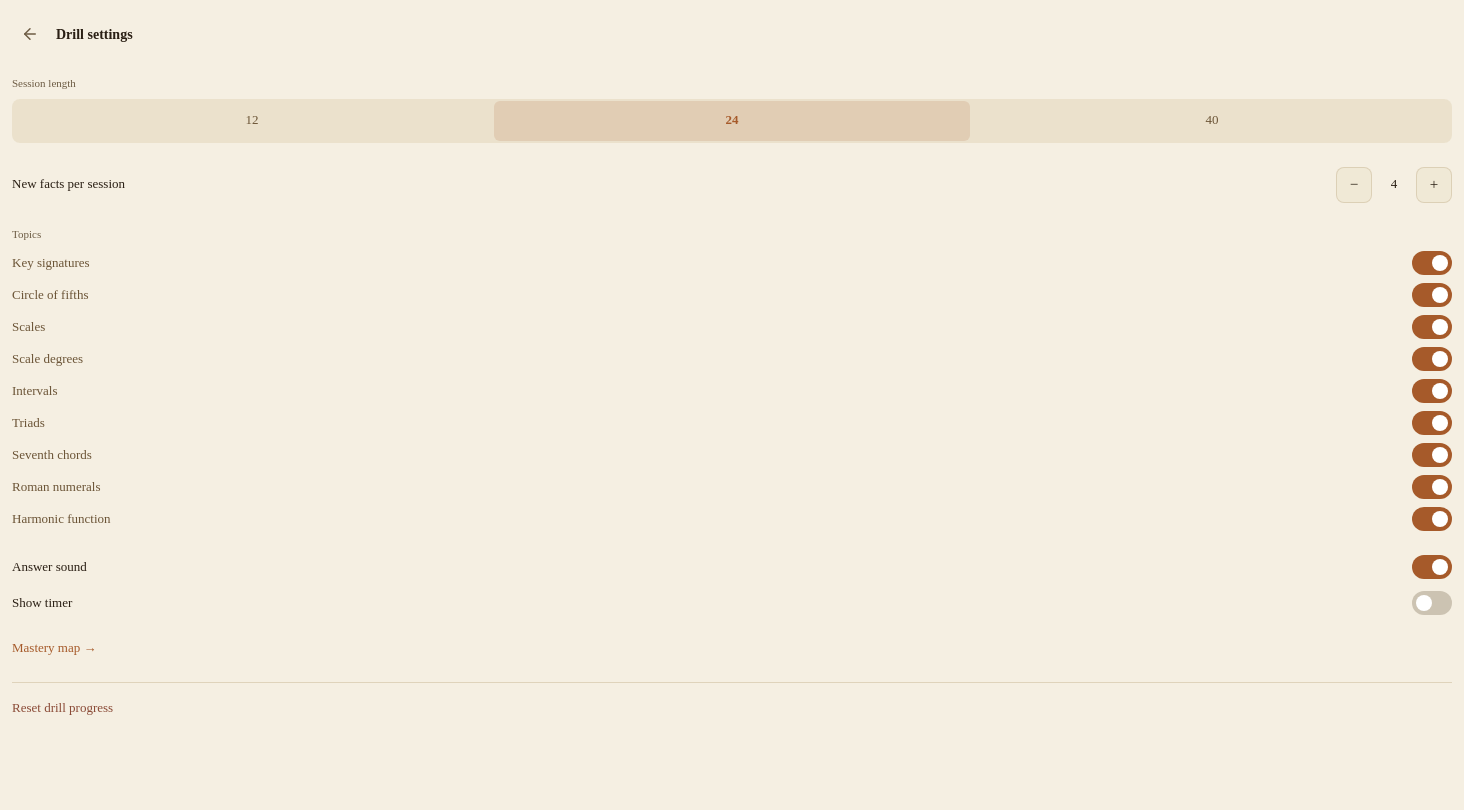
Test case: DrillSettings › Cancel dismisses the confirm block and restores the label
This screenshot has width=1464, height=810.
Click the button "Reset drill progress". click: point(63, 708)
box: x1=12 y1=699 x2=113 y2=718
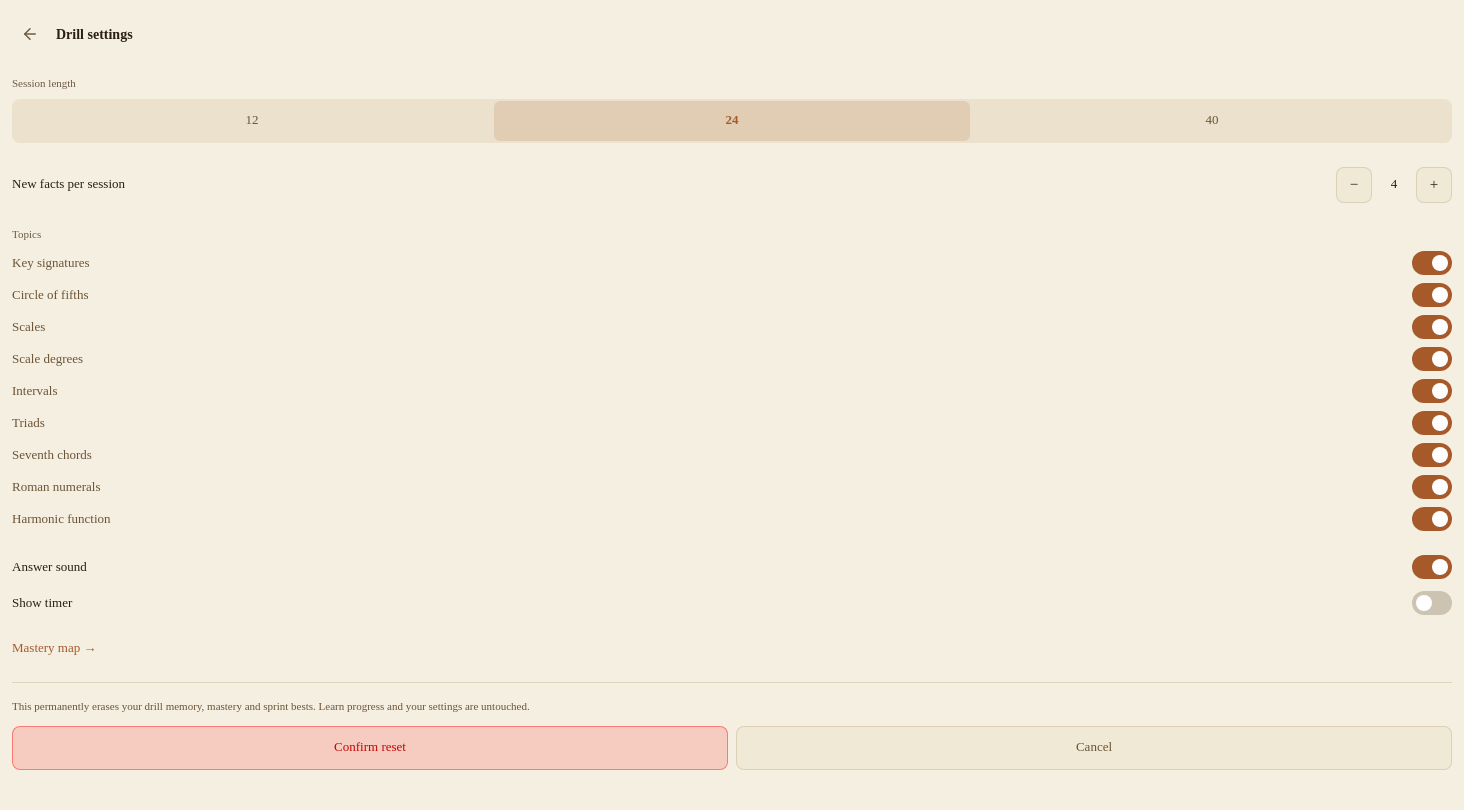
Click the button "Cancel". click: point(1094, 748)
box: x1=736 y1=726 x2=1452 y2=770
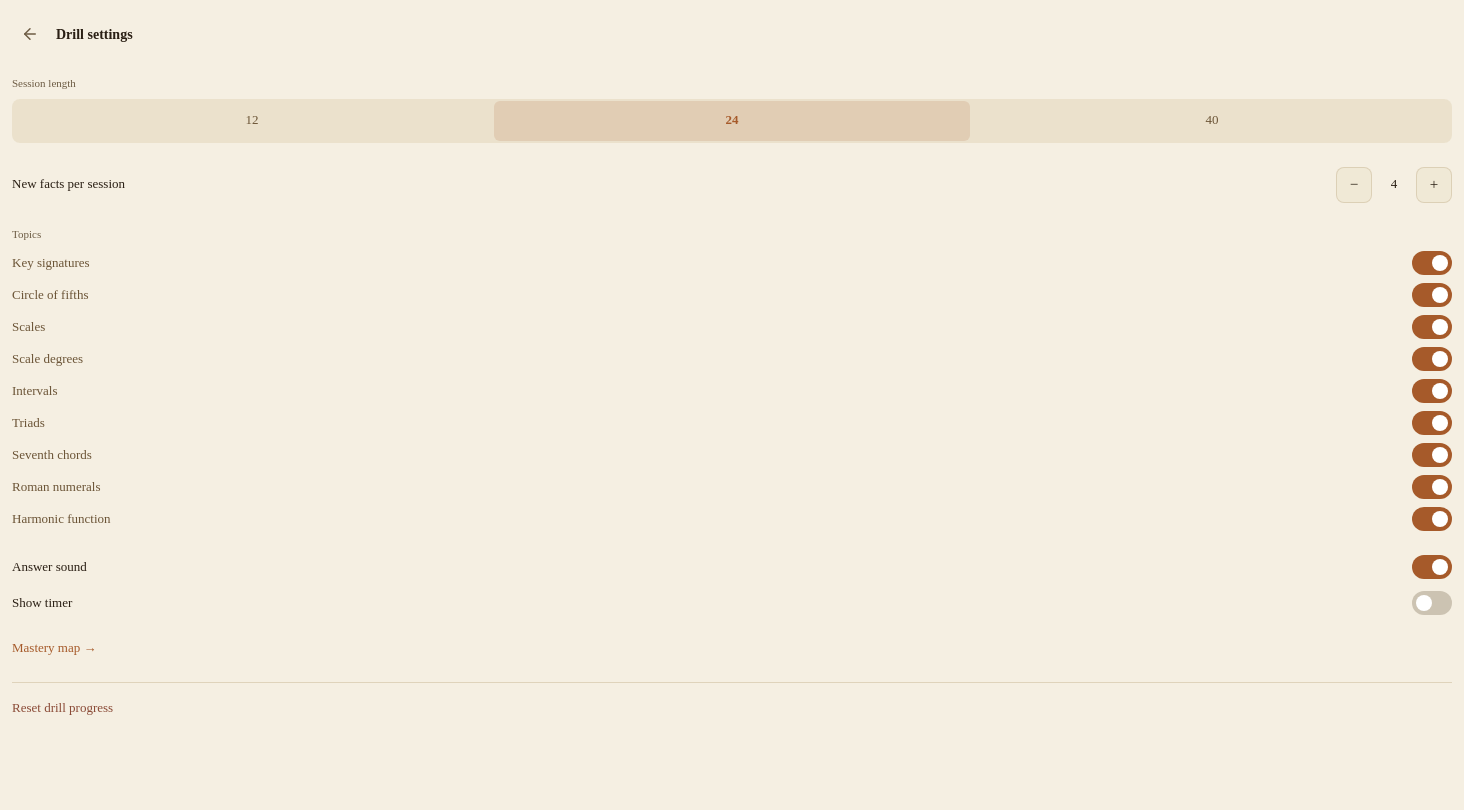
Check: the button "Reset drill progress" is shown, box x1=12 y1=699 x2=113 y2=718
Check: the text "permanently erases" is gone
